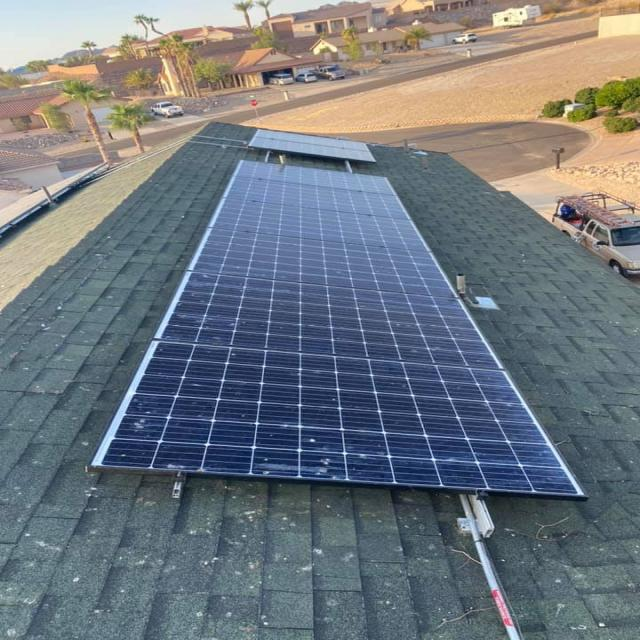dust-solar-panel: (106, 226, 585, 499)
